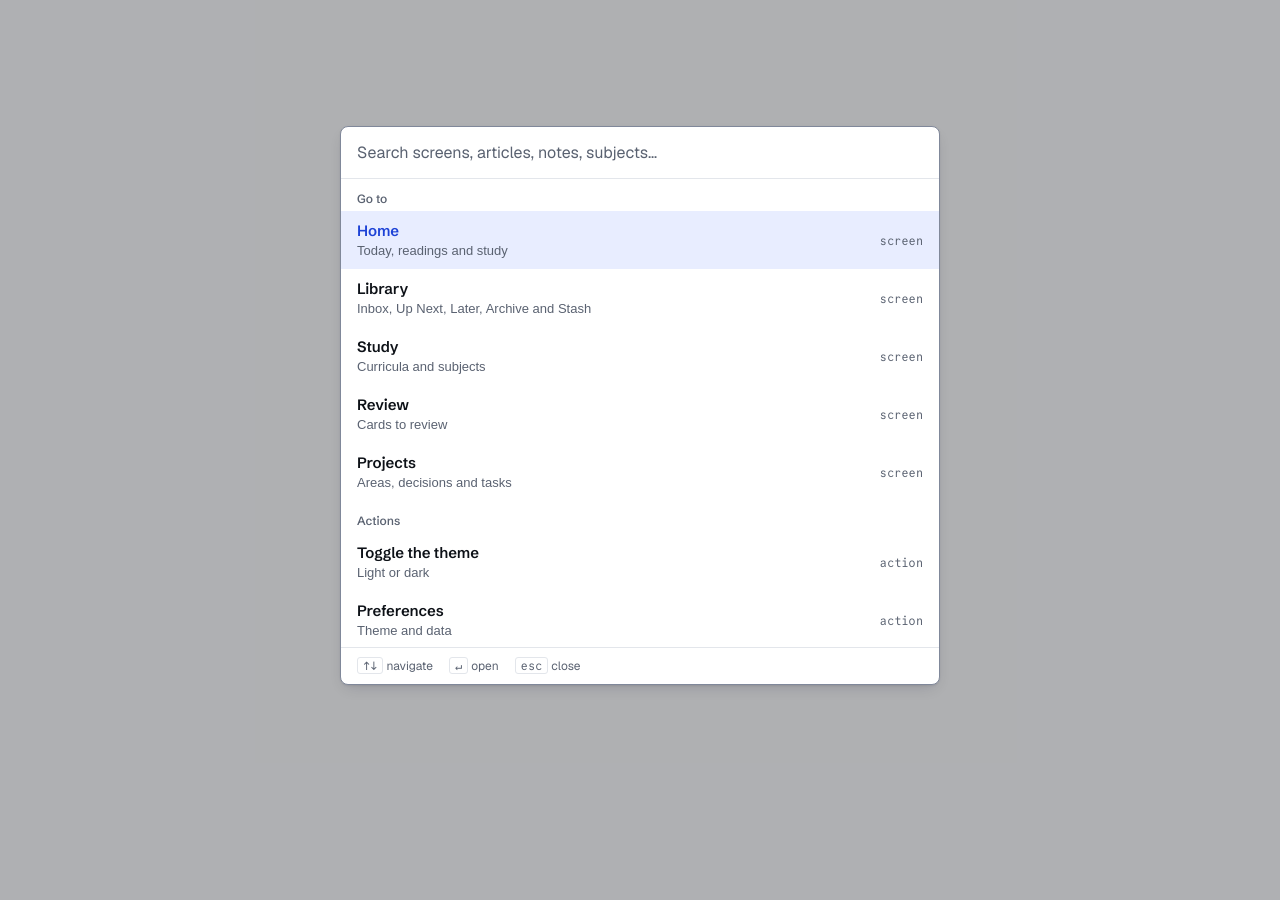
Scenario: shell overlay › shows the screens it owns above the hits it had to ask for
The image size is (1280, 900).
In the dropdown named "Search": (640, 153) [341,127,939,179], type "library"
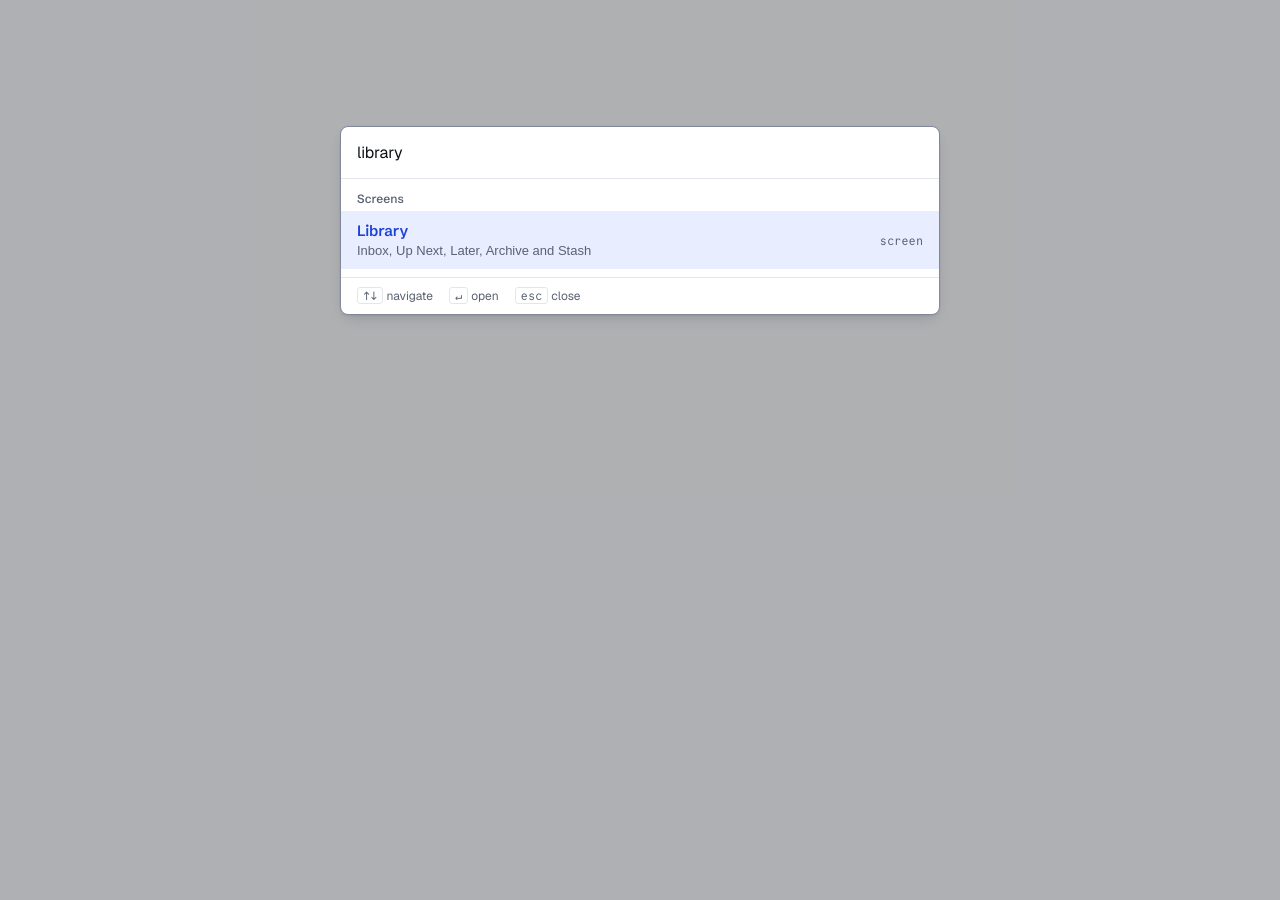
Check: the text "Screens" is shown, box [357,191,404,206]
